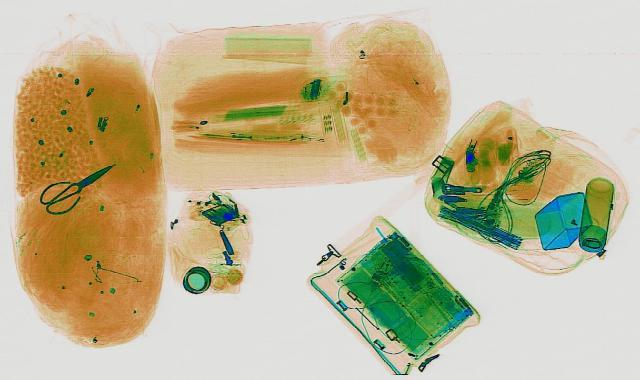Scissors: (20, 154, 134, 216)
